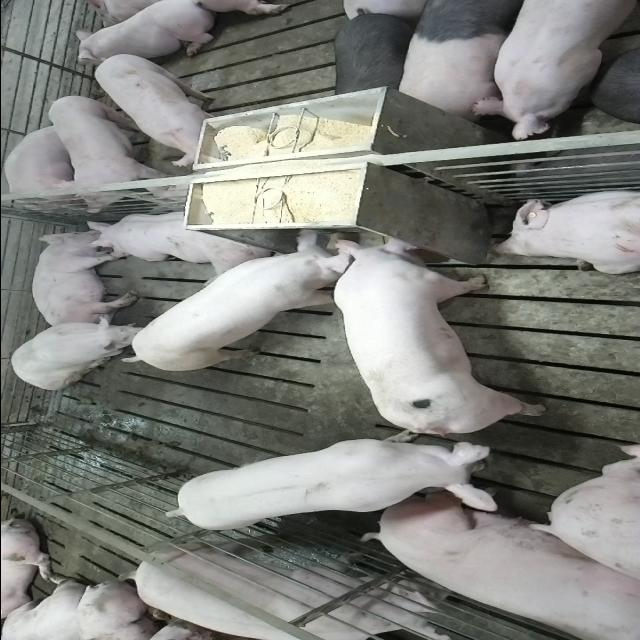Feeding: (332, 234, 549, 437), (115, 230, 362, 374)
Lateral_lying: (361, 481, 636, 636), (29, 230, 138, 330)
Sitting: (6, 314, 152, 389)
Standing: (158, 429, 510, 532), (115, 538, 464, 640), (469, 2, 640, 142), (394, 2, 536, 122), (92, 52, 236, 166), (43, 94, 168, 215), (331, 7, 426, 108)
Sternal_lying: (490, 186, 640, 274), (84, 207, 271, 272), (72, 2, 222, 60)
